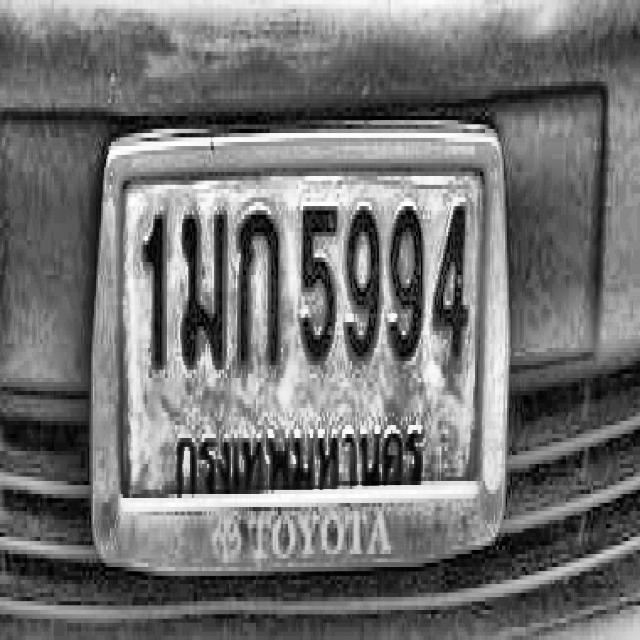license-plate: (87, 112, 519, 584)
